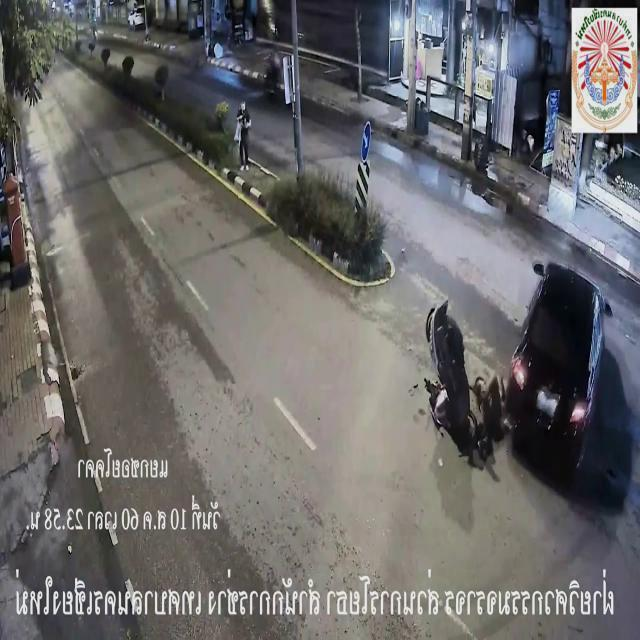accident: (428, 258, 610, 466)
